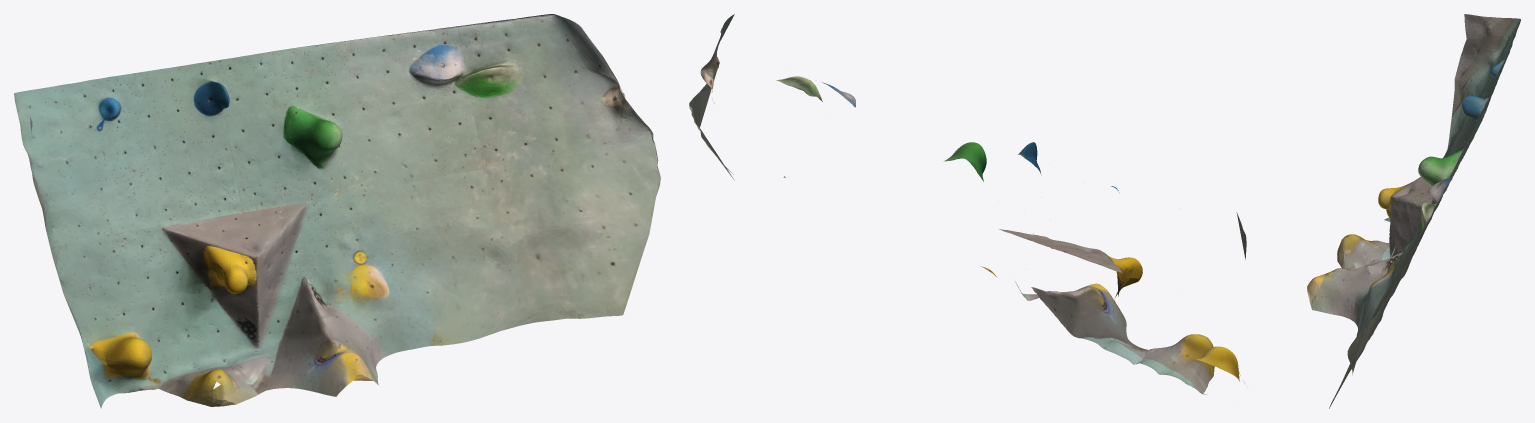
The model's file is Mur de prise.glb.
3 views of the same model, side by side, from view 1: azimuth 30°, elevation 25°; view 2: azimuth 150°, elevation 25°; view 3: azimuth 270°, elevation 25° (orthographic). The views are drawn at different scales.
Bounding box in the file's own units: 2.13 × 0.9045 × 0.8736.
1 material, 1 textured.
